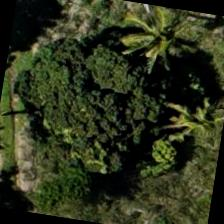Kelapa_Sawit: (100, 0, 203, 94), (142, 72, 223, 174)
